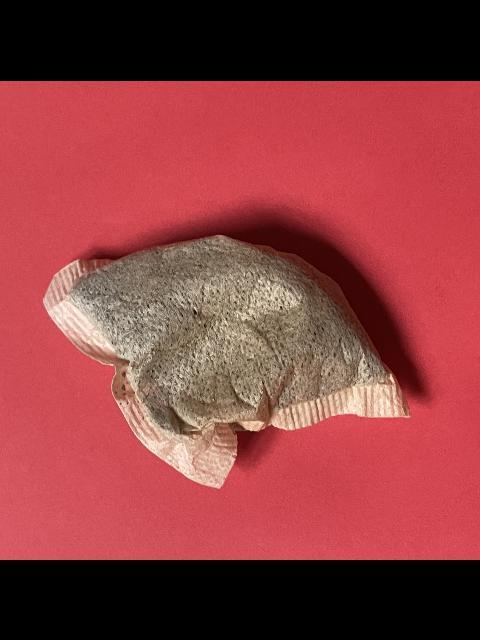teabag: (38, 230, 416, 490)
